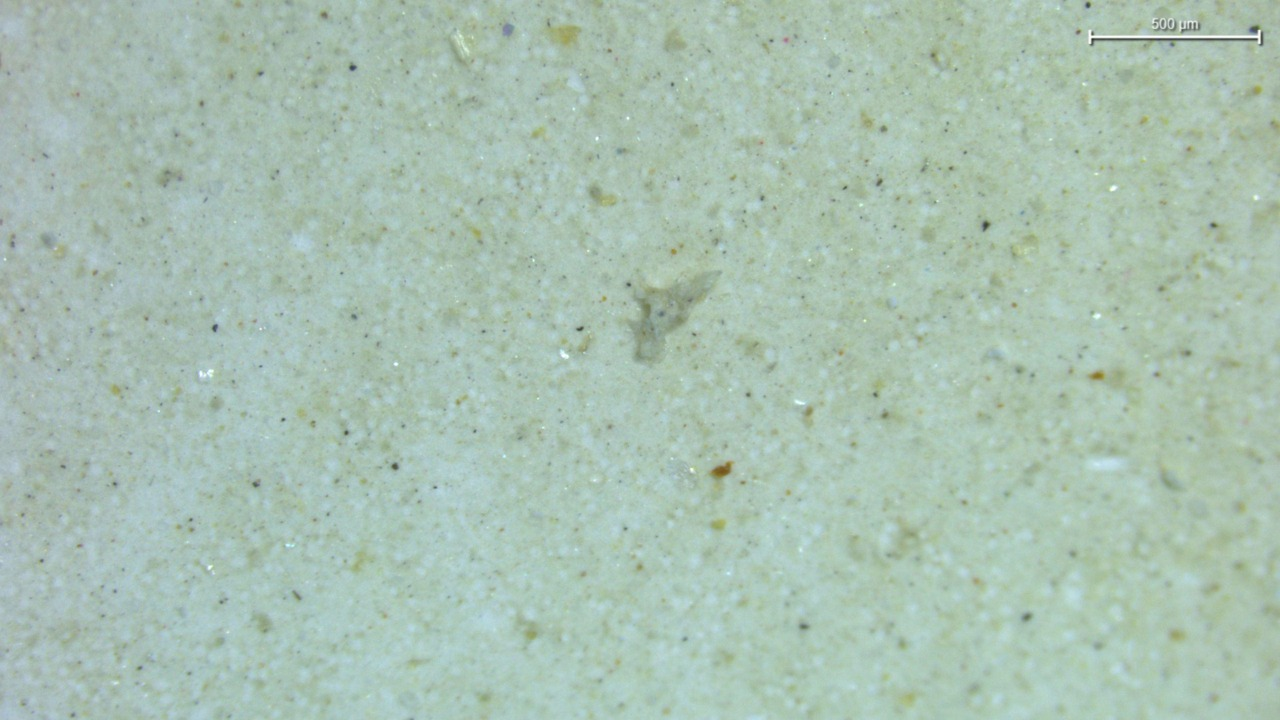microplastic_fragment: (631, 270, 720, 361)
